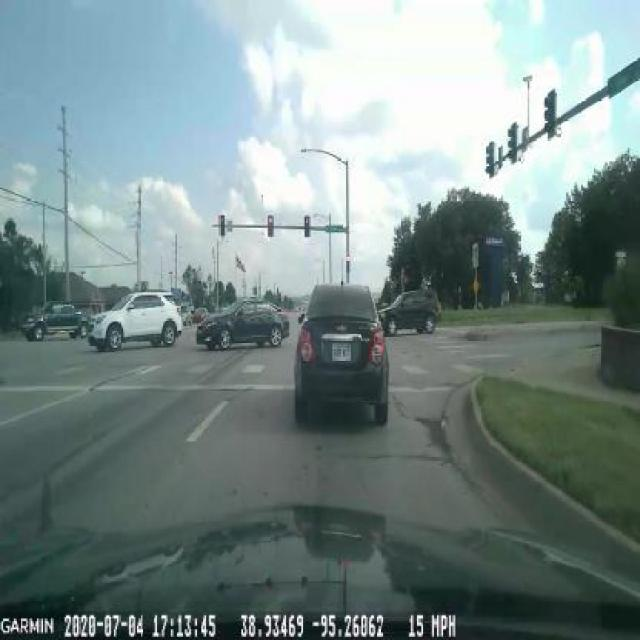Pothole: (413, 405, 461, 470)
